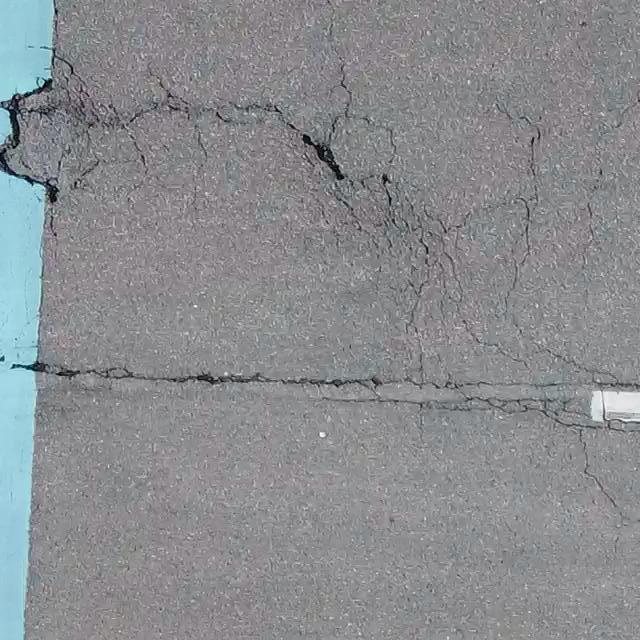GRIETA: (12, 361, 383, 387)
PIEL DE COCODRILO: (0, 12, 639, 595)
